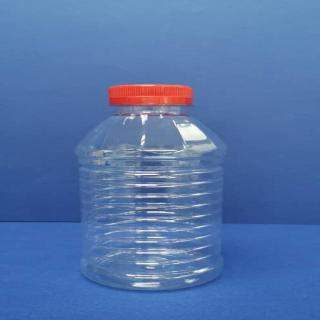Plastic-bottle: (70, 83, 236, 299)
